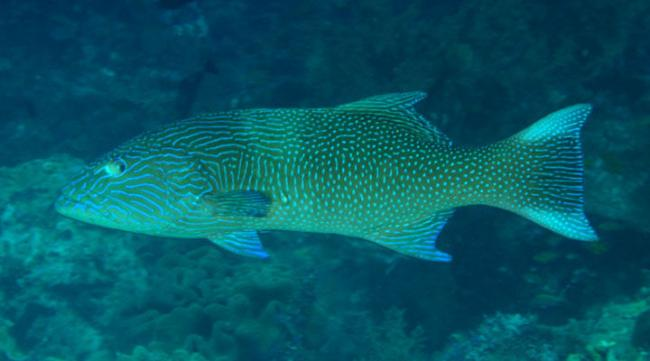fish: (54, 89, 601, 264)
